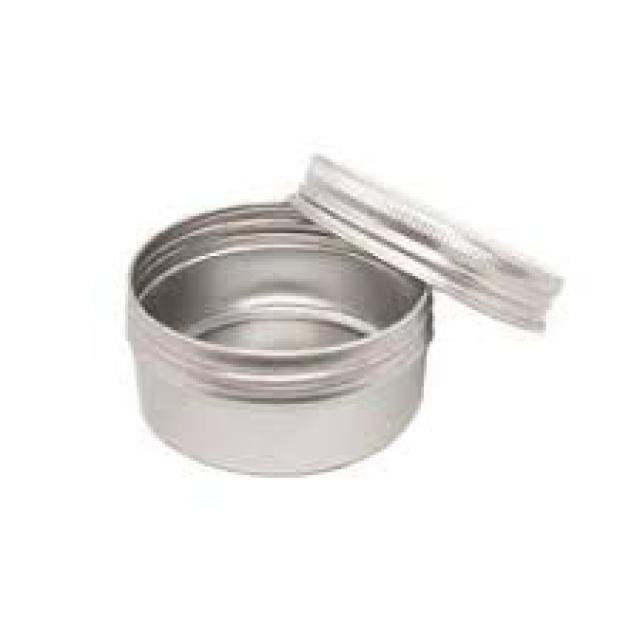recyclable: (125, 199, 438, 477), (291, 152, 562, 332)
